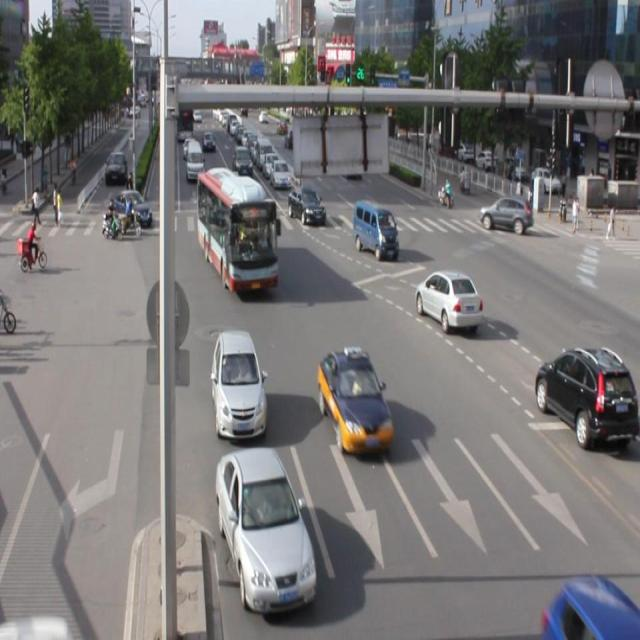car: (214, 445, 316, 611), (534, 344, 640, 448), (318, 347, 393, 453), (542, 575, 640, 640), (210, 328, 266, 439), (414, 268, 483, 332)
truck: (353, 200, 398, 260)
van: (197, 172, 278, 291)
